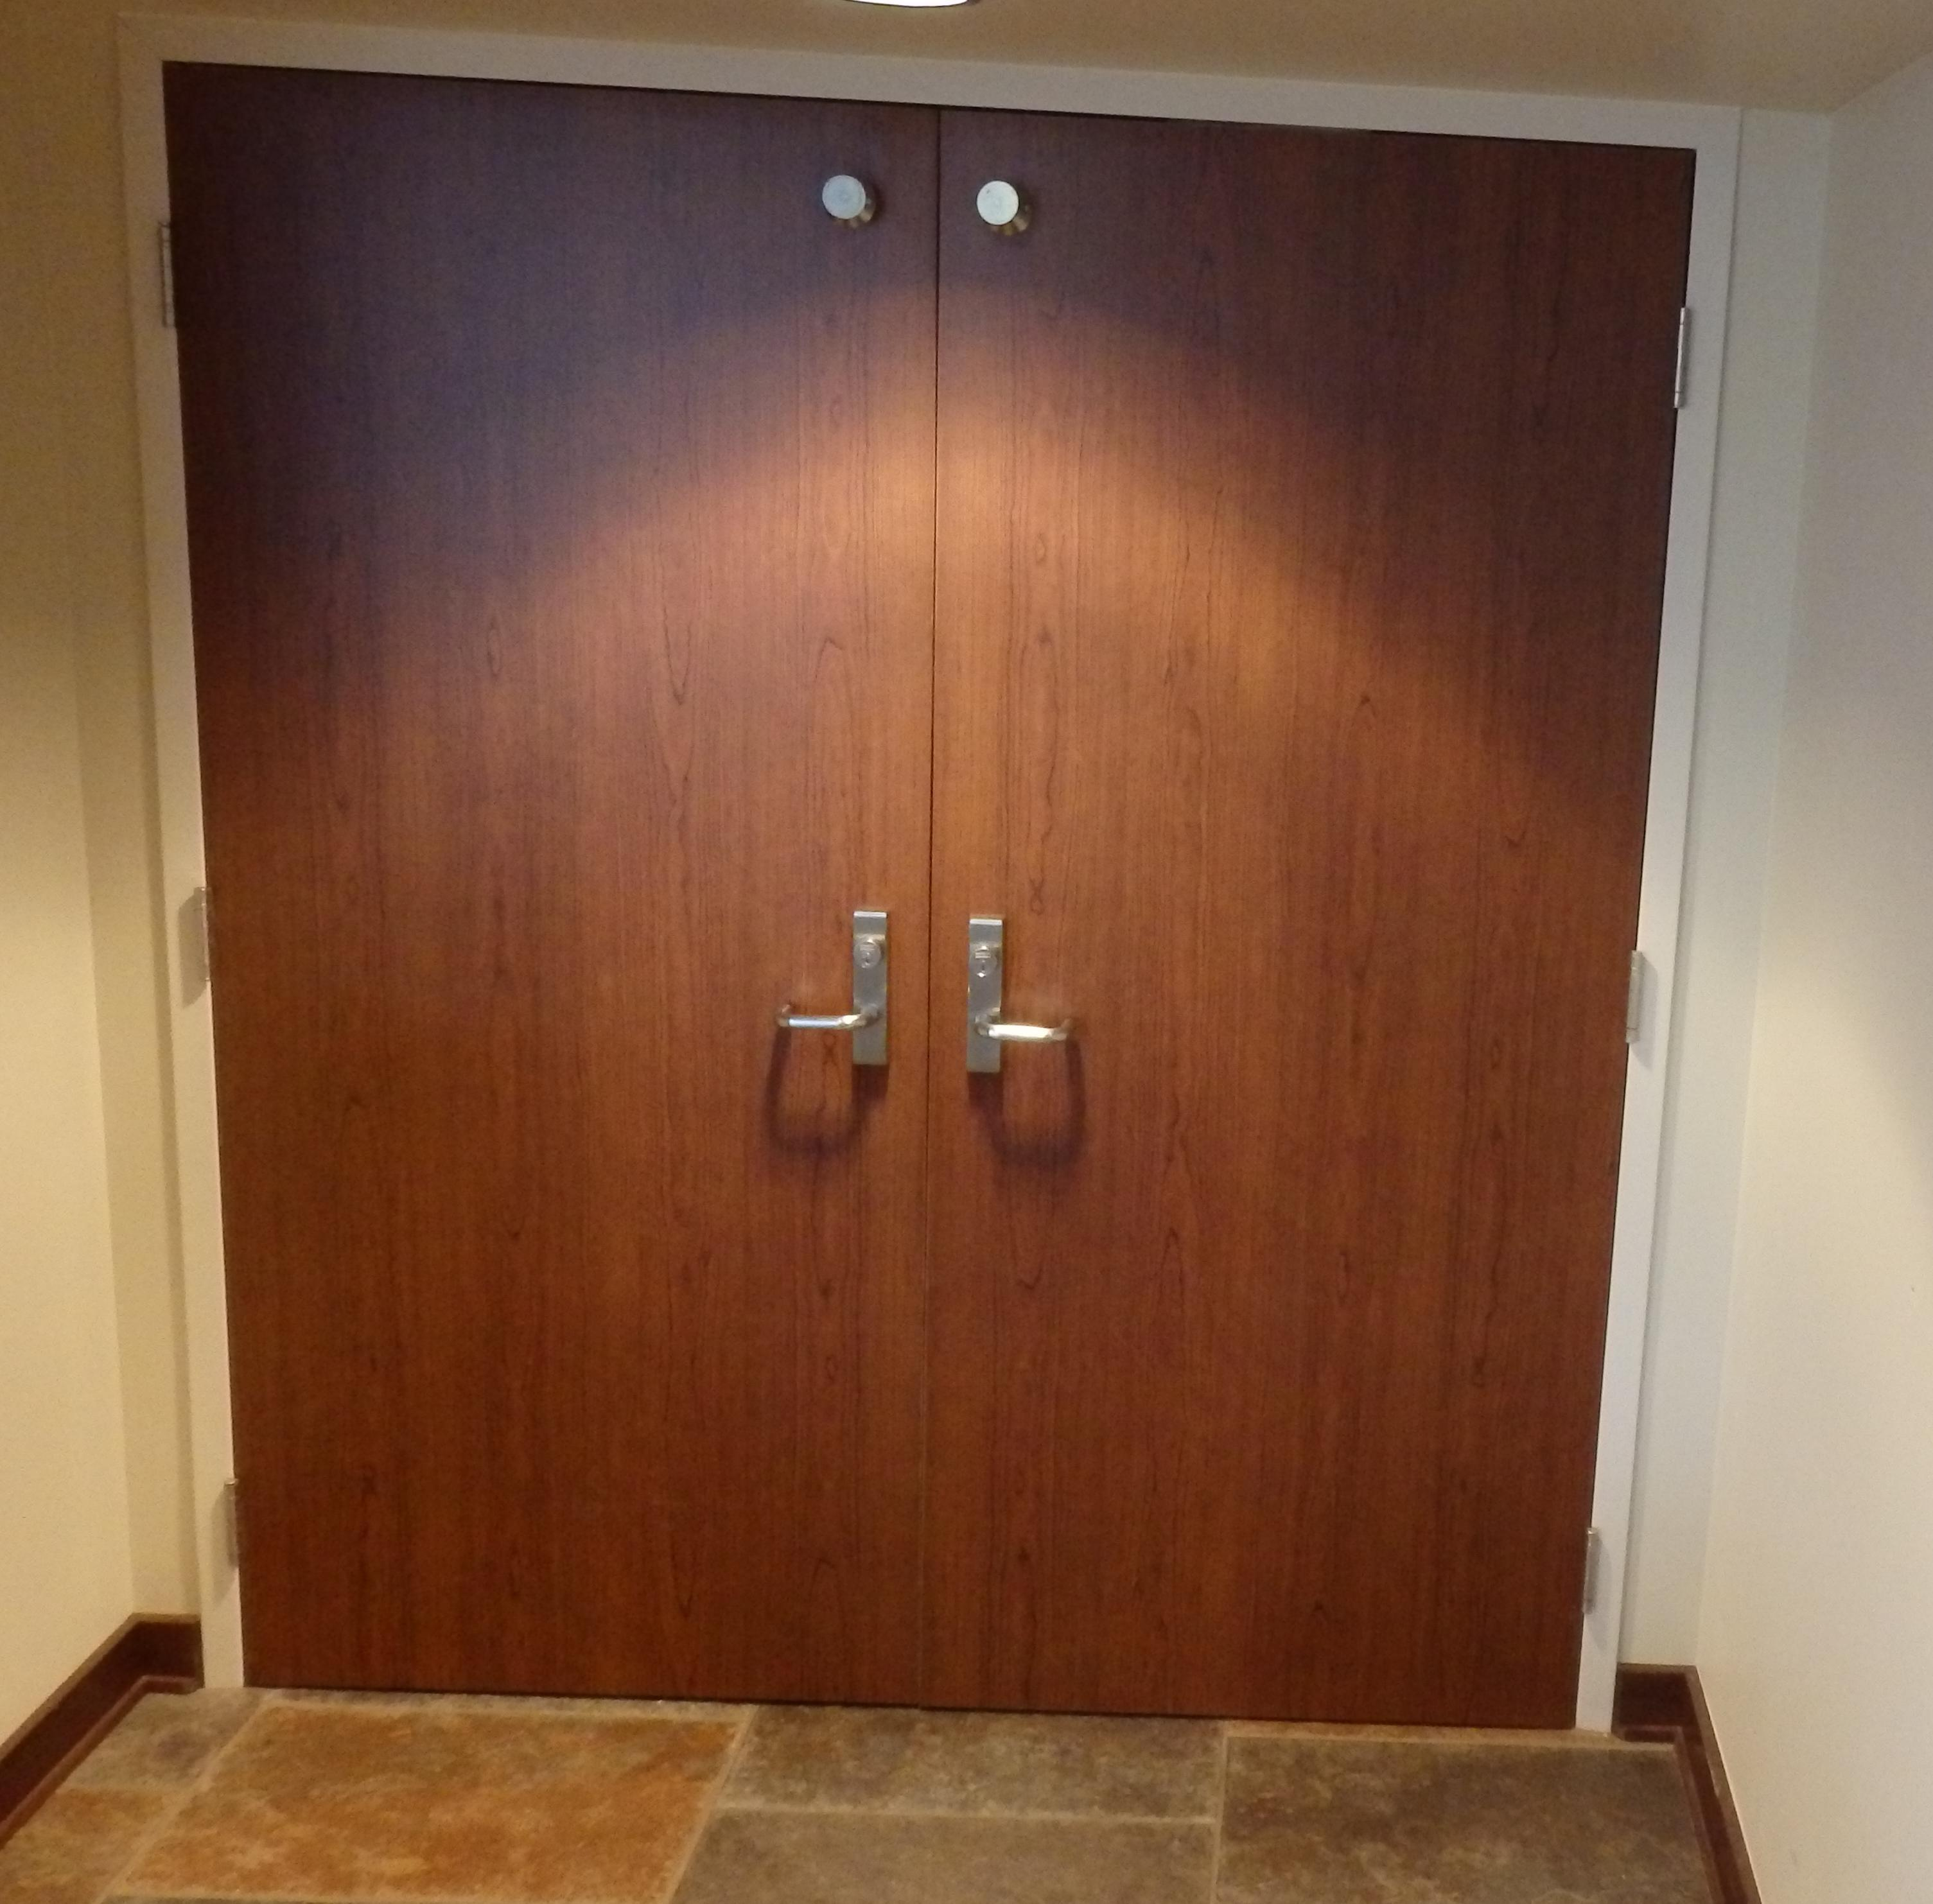door: (132, 17, 1679, 1730)
